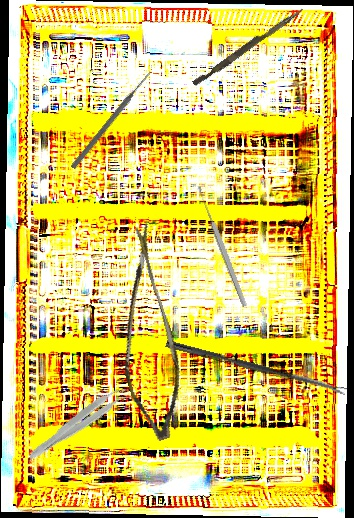Micro Scissor: (84, 222, 209, 445)
Pusher: (191, 4, 305, 89), (69, 69, 154, 171)
Surgical Spoon: (165, 340, 347, 396), (195, 184, 249, 309)
Tissue Forceps: (25, 380, 134, 468)
